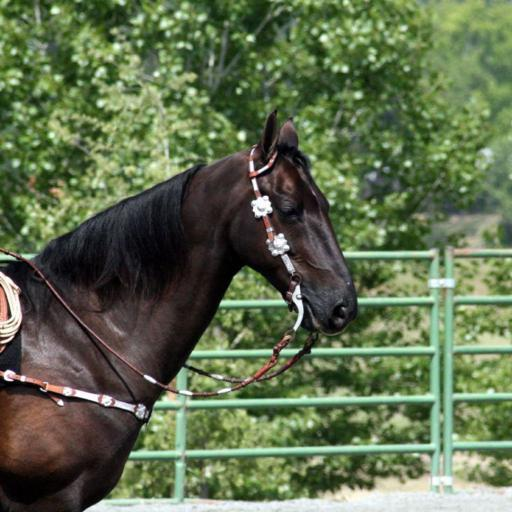Horse: (0, 108, 361, 512)
